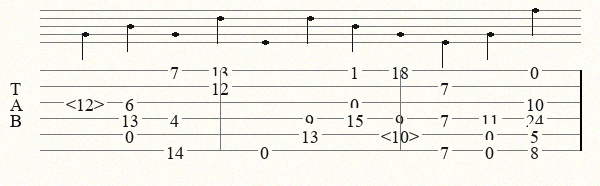0: (125, 126, 138, 142), (260, 142, 273, 158), (350, 94, 363, 110), (485, 126, 498, 142), (485, 142, 498, 158), (530, 62, 543, 78)
1: (350, 62, 363, 78)
10: (526, 94, 548, 110)
11: (481, 110, 503, 126)
12: (211, 78, 233, 94)
13: (121, 110, 143, 126), (211, 62, 233, 78), (301, 126, 323, 142)
14: (166, 142, 188, 158)
15: (346, 110, 368, 126)
18: (391, 62, 413, 78)
24: (526, 110, 548, 126)
4: (170, 110, 183, 126)
5: (530, 126, 543, 142)
6: (125, 94, 138, 110)
7: (170, 62, 183, 78), (440, 142, 453, 158), (440, 78, 453, 94), (440, 110, 453, 126)
8: (530, 142, 543, 158)
9: (305, 110, 318, 126), (395, 110, 408, 126)
harmonic: (66, 94, 108, 110), (381, 126, 423, 142)
